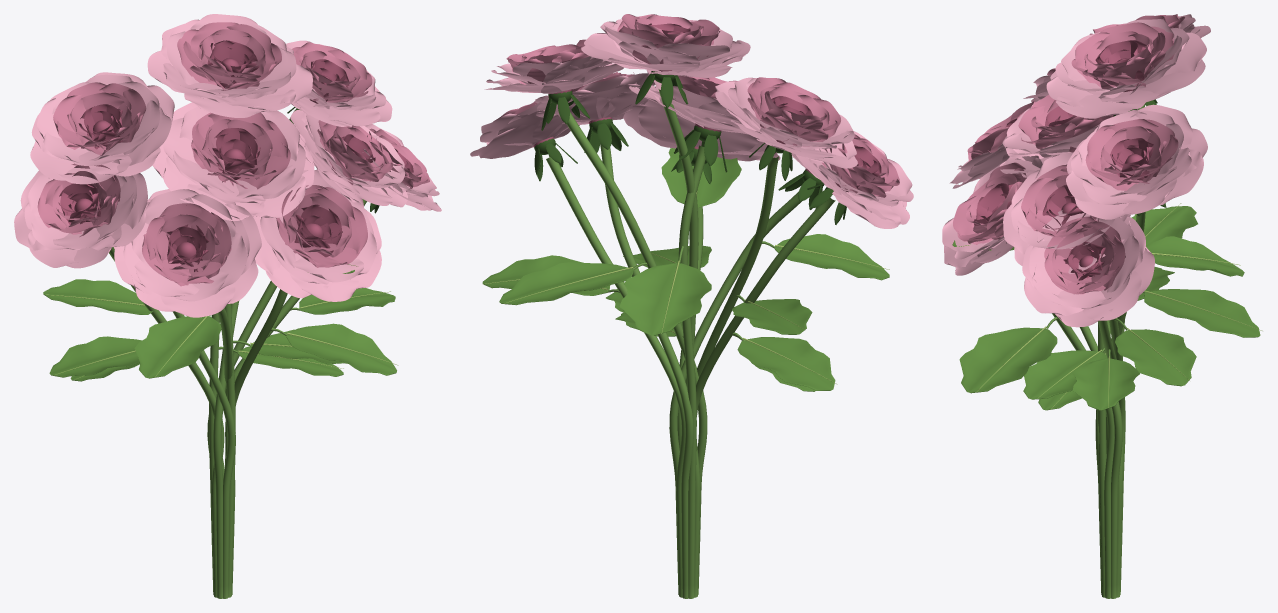
File: rose.glb
3 renders of one model, left to right at view 1: azimuth 30°, elevation 25°; view 2: azimuth 150°, elevation 25°; view 3: azimuth 270°, elevation 25°, orthographic. The views are drawn at different scales.
Visible parts, largest first — view 1: Rose_08, Rose_05, Rose_02, Rose_01, Rose_09, Rose_04, Rose_06, Rose_03, Leaf_08, Leaf_09, Leaf_04, Rose_07 (+12 smaller); view 2: Rose_01, Rose_02, Rose_04, Rose_03, Leaf_05, Rose_05, Rose_06, Rose_07, Leaf_03, Leaf_04, Rose_09, Stem_06 (+13 smaller); view 3: Rose_03, Rose_07, Rose_01, Rose_09, Rose_06, Leaf_09, Rose_05, Leaf_03, Leaf_06, Leaf_07, Leaf_10, Leaf_05 (+10 smaller).
Boxes of the visible parts, box(x1,y1,x2,y2) form: Rose_08: box(114, 187, 261, 317); Rose_05: box(152, 102, 314, 220); Rose_02: box(30, 72, 174, 184); Rose_01: box(147, 14, 312, 117); Rose_09: box(252, 169, 381, 301); Rose_04: box(14, 149, 147, 268); Rose_06: box(290, 110, 409, 207); Rose_03: box(286, 40, 392, 126); Leaf_08: box(134, 315, 221, 378); Leaf_09: box(270, 323, 398, 375); Leaf_04: box(49, 336, 141, 377); Rose_07: box(362, 124, 441, 213); Rose_01: box(581, 14, 750, 108); Rose_02: box(715, 77, 857, 180); Rose_04: box(796, 131, 913, 228); Rose_03: box(484, 39, 623, 130); Leaf_05: box(619, 246, 711, 335); Rose_05: box(629, 69, 748, 172); Rose_06: box(533, 72, 655, 152); Rose_07: box(470, 95, 579, 181); Leaf_03: box(499, 262, 647, 305); Leaf_04: box(732, 332, 837, 390); Rose_09: box(623, 99, 780, 183); Stem_06: box(600, 143, 693, 598); Rose_03: box(1066, 104, 1207, 219); Rose_07: box(1022, 209, 1154, 327); Rose_01: box(1046, 19, 1206, 118); Rose_09: box(942, 155, 1056, 275); Rose_06: box(1003, 152, 1130, 273); Leaf_09: box(959, 317, 1057, 393); Rose_05: box(999, 94, 1137, 177); Leaf_03: box(1143, 289, 1262, 337); Leaf_06: box(1114, 318, 1196, 386); Leaf_07: box(1072, 349, 1139, 410); Leaf_10: box(1023, 347, 1107, 399); Leaf_05: box(1146, 236, 1244, 276).
Size of the model in its own units: 0.3053 by 0.3996 by 0.206.
